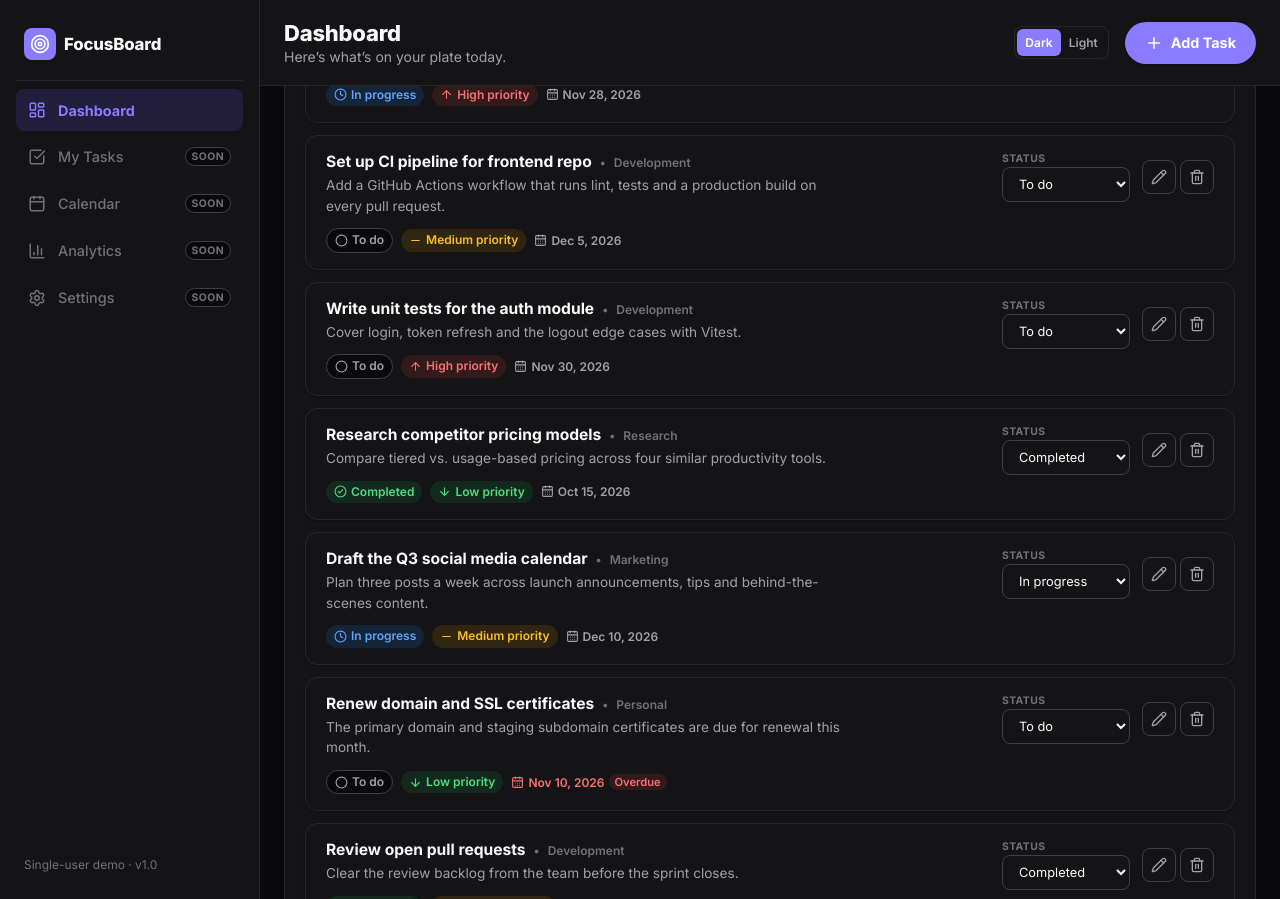
Scenario: FocusBoard App › requires confirmation before deleting, and Cancel preserves the task
This screenshot has width=1280, height=899.
(page scrolled)
Click the button named "delete task".
click(1197, 450)  # box x1=1180 y1=433 x2=1214 y2=467
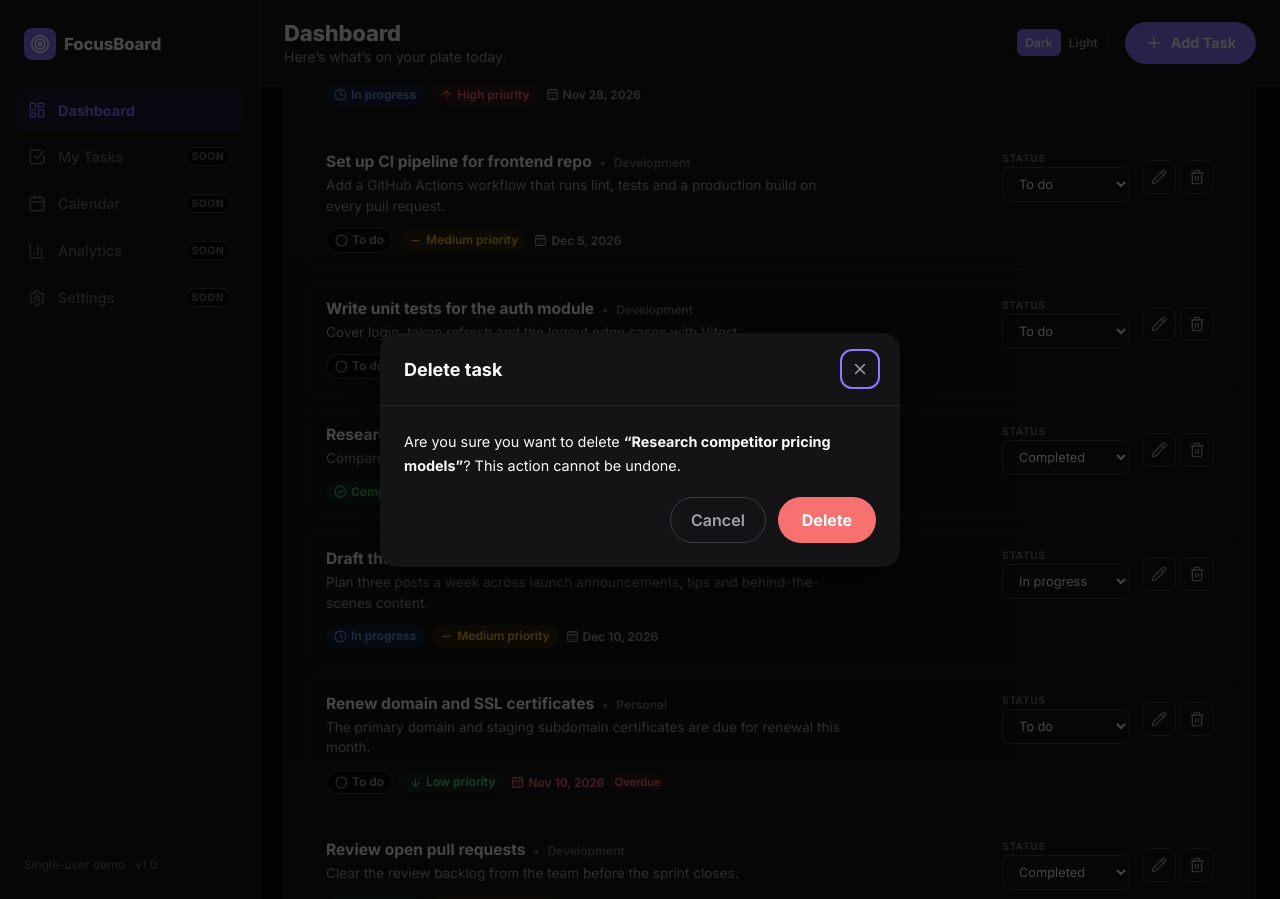
Expected: the dialog is shown, x1=380 y1=334 x2=900 y2=567
Click the button "Cancel".
click(718, 520)  # box x1=670 y1=496 x2=766 y2=542
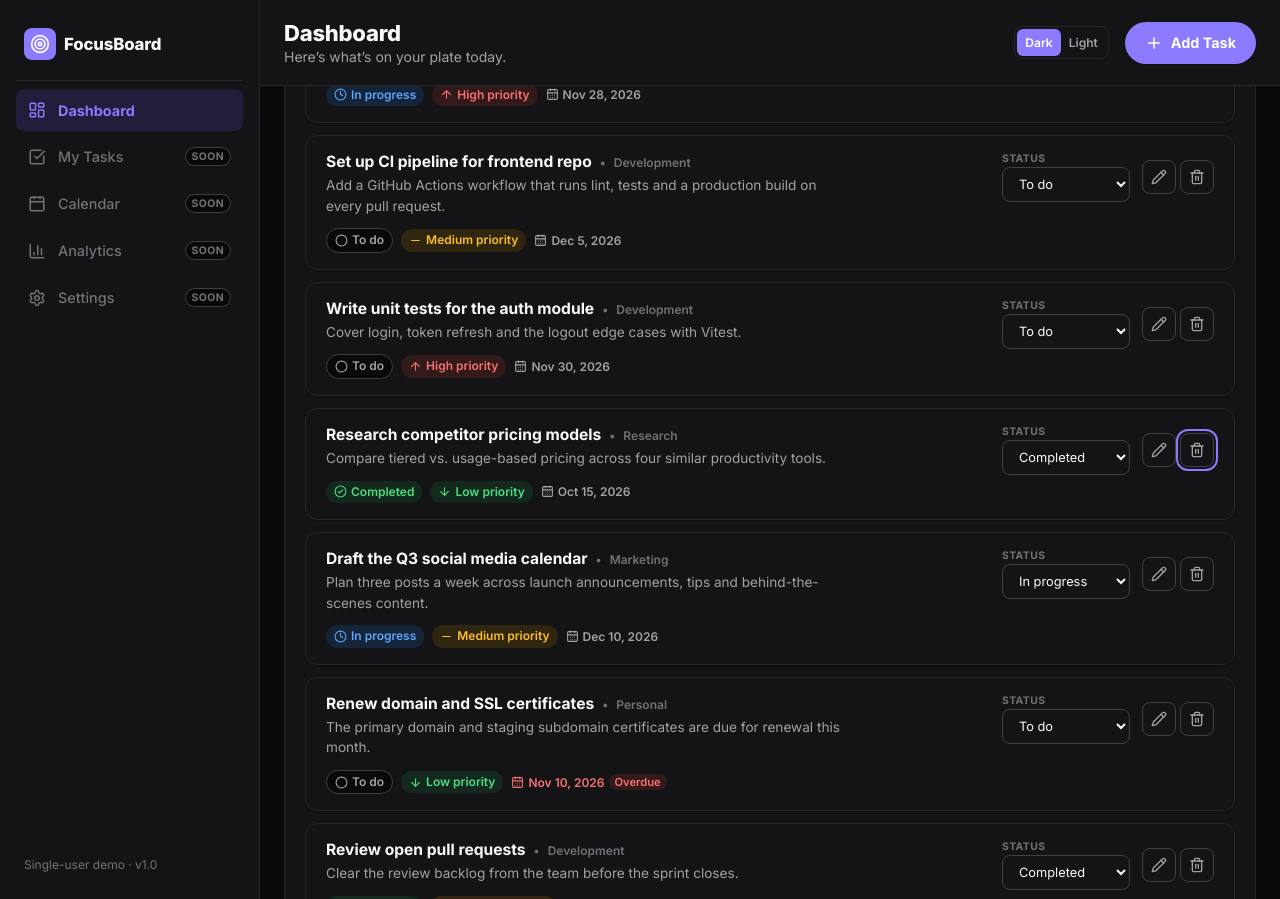
Expected: the heading "Research competitor pricing models" is shown, x1=326 y1=425 x2=601 y2=444
Expected: the dialog is gone
